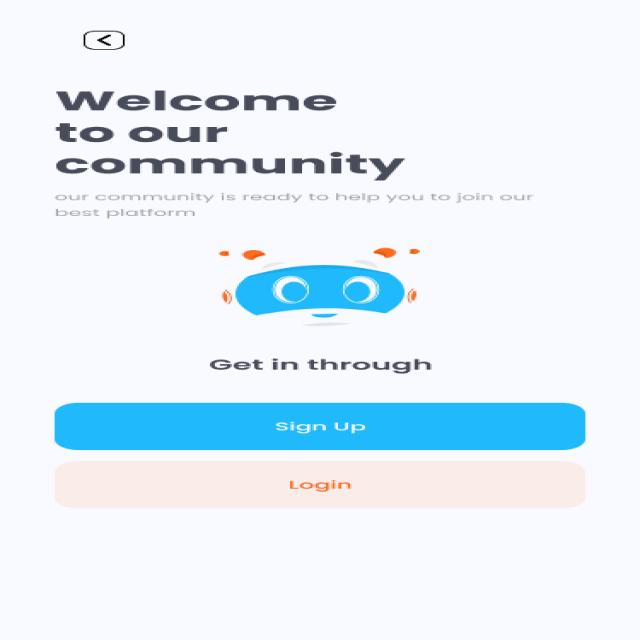button: (40, 396, 603, 455), (38, 457, 605, 515)
column: (9, 68, 635, 632)
icon button: (58, 22, 148, 62)
text: (21, 75, 616, 230)
view: (160, 235, 477, 383)
